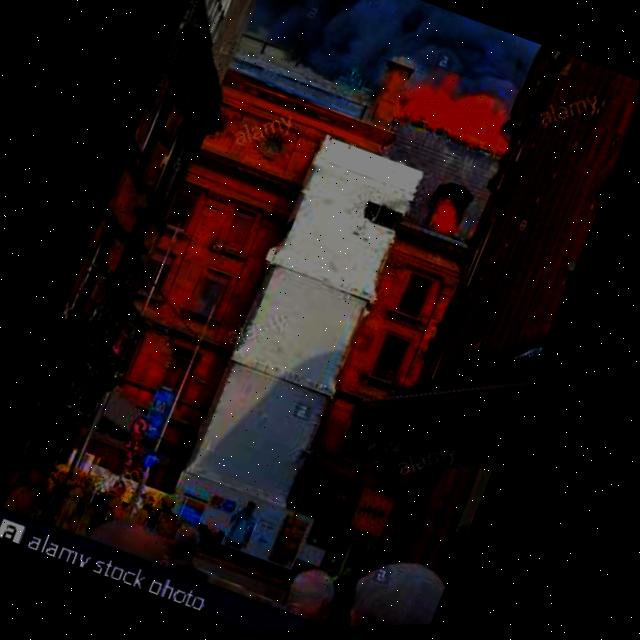Fire: (390, 64, 522, 163)
Smoke: (249, 0, 549, 153)
